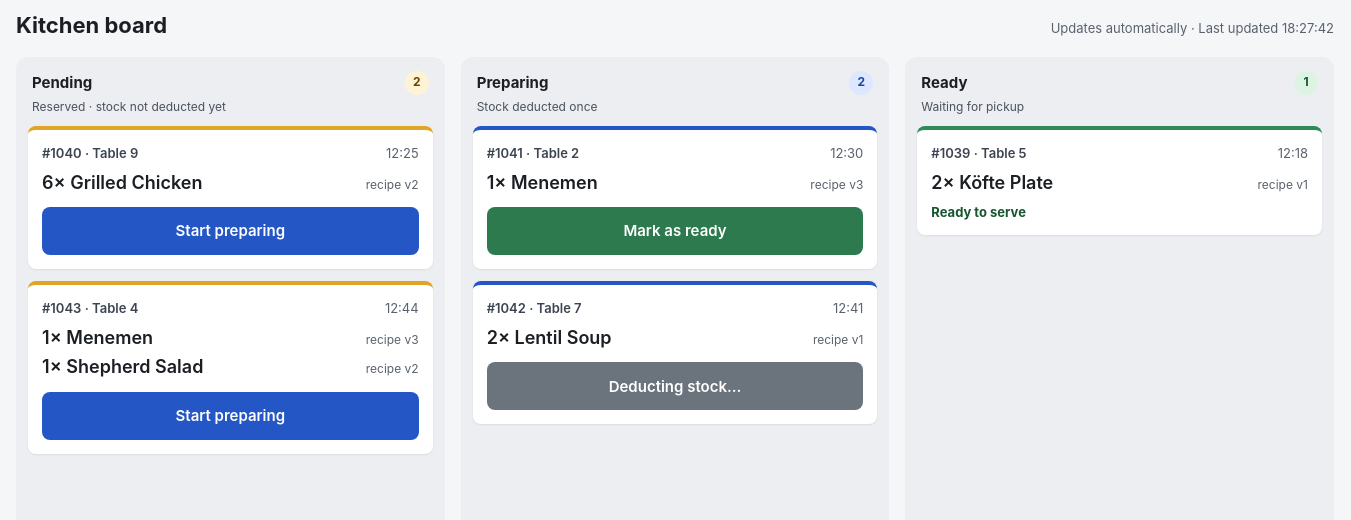
Test: KitchenBoardPage › keeps the Start preparing lock and label when a poll moves the card before the PATCH response
Earlier steps of the test are not shown.
Later steps or results of the test are not shown.
Click the button with aria-label "Deducting stock… order #1042": click(675, 386) [487, 362, 863, 410]
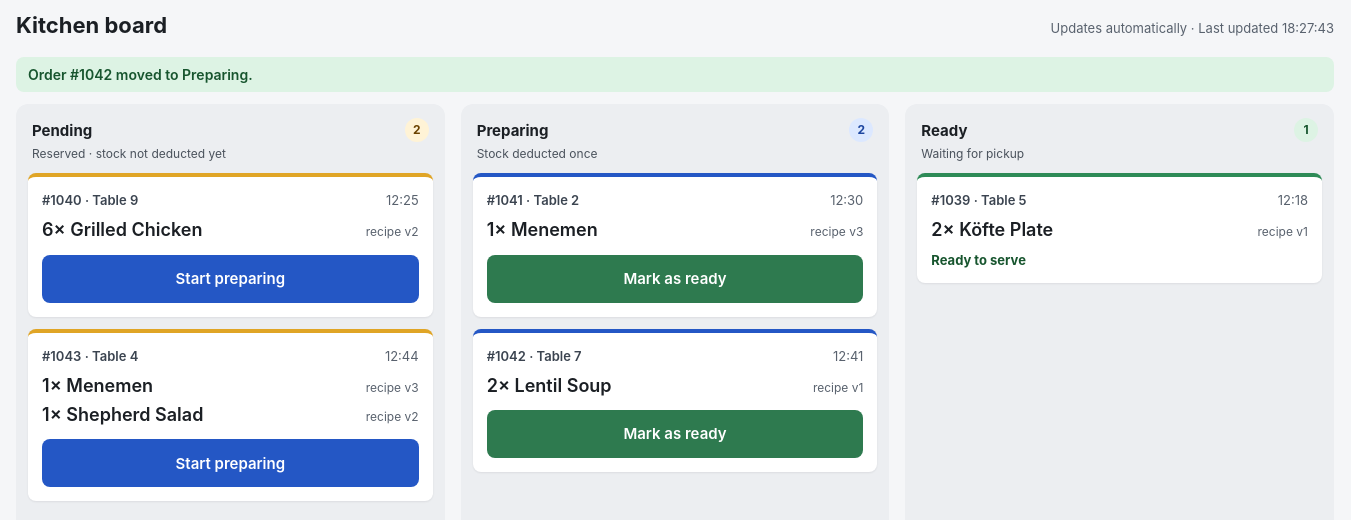
Check: the button with aria-label "Mark as ready order #1042" is enabled, box [487, 410, 863, 458]
